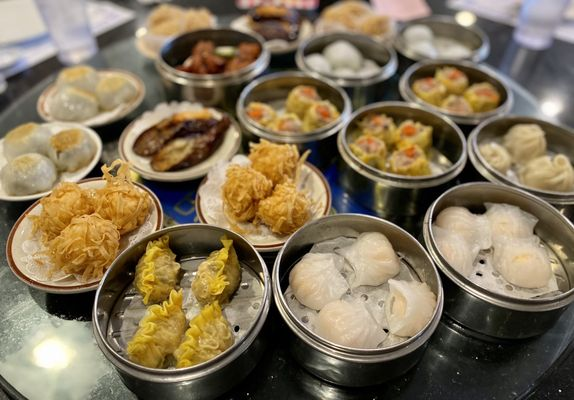sushi: (271, 213, 444, 387), (93, 224, 272, 392), (422, 182, 574, 349), (4, 163, 163, 294), (196, 140, 331, 249), (339, 103, 468, 189), (119, 100, 236, 184), (155, 28, 271, 108), (467, 115, 574, 198), (235, 70, 348, 144), (0, 120, 102, 201), (398, 59, 510, 126), (36, 66, 146, 130), (296, 31, 399, 86), (396, 17, 489, 65)
